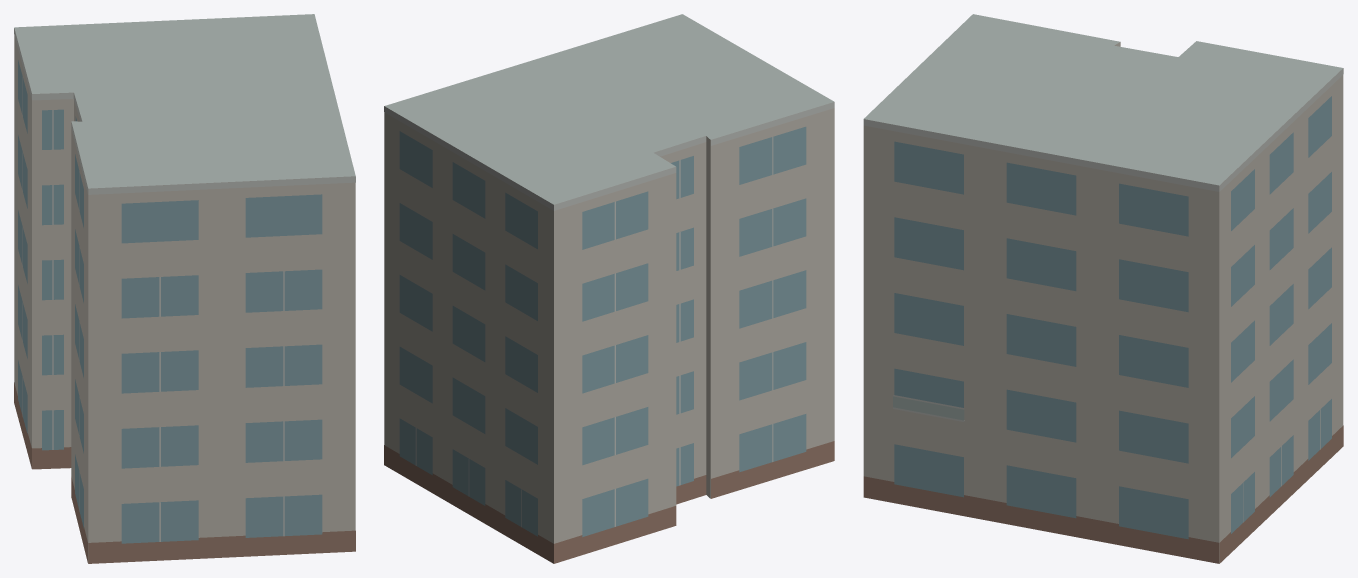
Rendered from survey-upis-32532571.glb.
The picture shows the model from 3 angles, left to right: view 1: azimuth 30°, elevation 25°; view 2: azimuth 150°, elevation 25°; view 3: azimuth 270°, elevation 25°; orthographic projection. The views are drawn at different scales.
Visible parts, largest first — view 1: survey-upis-32532571.tmp; view 2: survey-upis-32532571.tmp; view 3: survey-upis-32532571.tmp.
Boxes of the visible parts, bbox=[...] form: survey-upis-32532571.tmp: bbox=[14, 14, 355, 563]; survey-upis-32532571.tmp: bbox=[384, 14, 834, 563]; survey-upis-32532571.tmp: bbox=[863, 14, 1343, 563].
Size of the model in its own units: 13.91 by 14.3 by 16.45.
